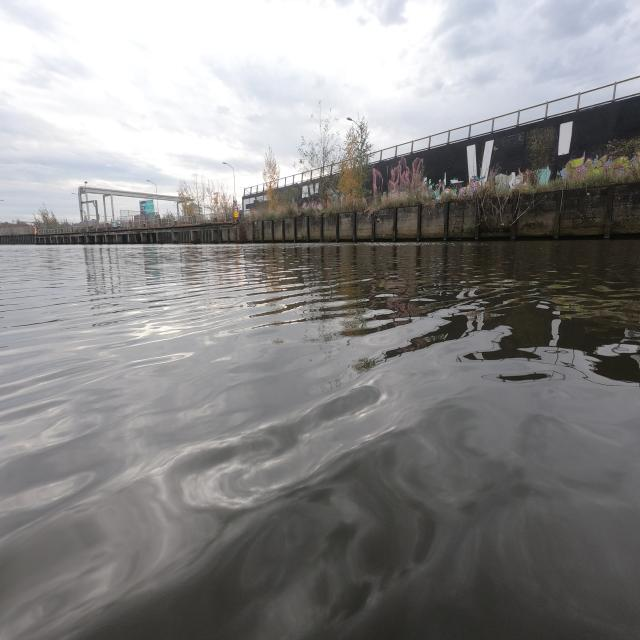sky: (12, 4, 634, 188)
wall: (240, 174, 638, 240)
water: (0, 239, 640, 640)
